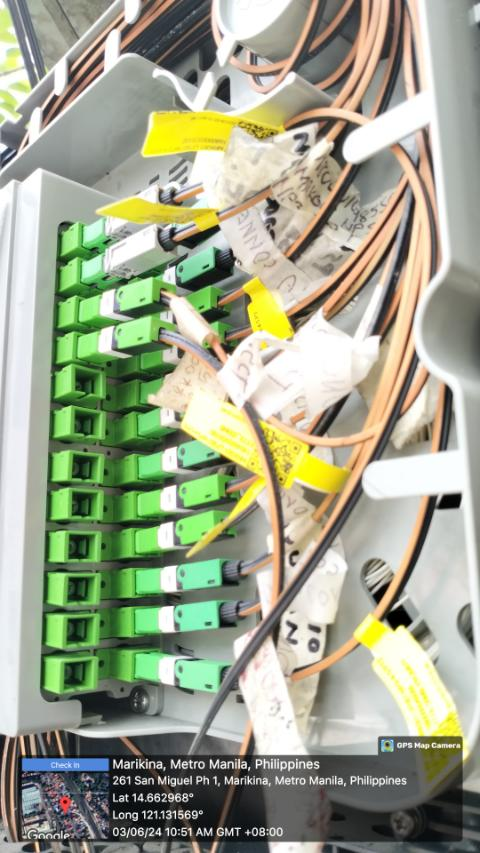no dust cap: (62, 660, 96, 692), (65, 615, 99, 647), (67, 574, 101, 606), (73, 407, 105, 439), (69, 452, 102, 483), (69, 489, 103, 519), (66, 533, 100, 563), (74, 366, 105, 397)
occupied: (82, 178, 185, 257), (82, 215, 182, 294), (142, 241, 241, 308), (137, 198, 225, 273), (134, 506, 246, 562), (138, 283, 232, 343), (134, 469, 240, 522), (78, 272, 178, 328), (139, 389, 238, 444), (138, 430, 237, 484), (142, 319, 243, 371), (79, 313, 178, 366), (135, 554, 251, 598), (133, 649, 241, 696), (140, 360, 239, 405), (134, 600, 247, 639)
